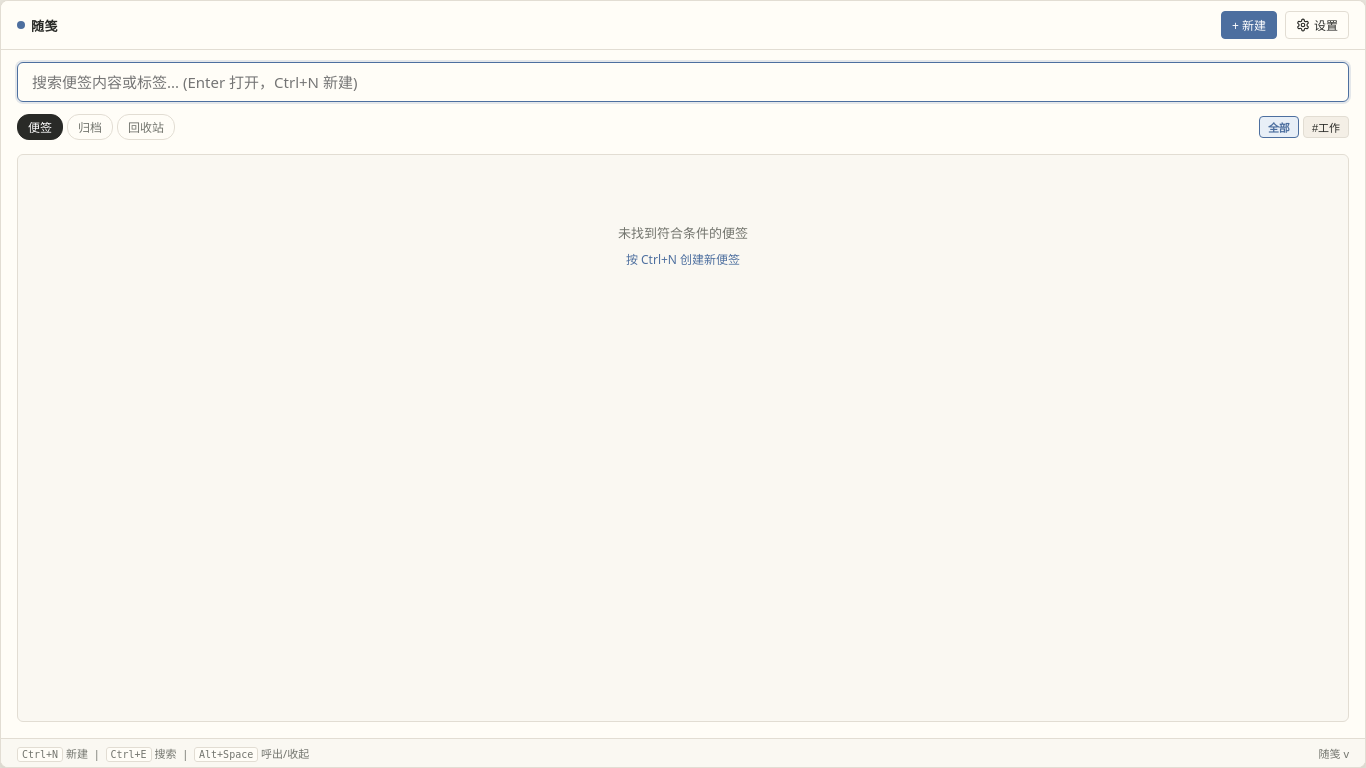
Scenario: App Workflow & State Management › opens and closes settings modal
The width and height of the screenshot is (1366, 768).
Click the button titled "设置".
click(1317, 25)  # box [1285,11,1349,39]
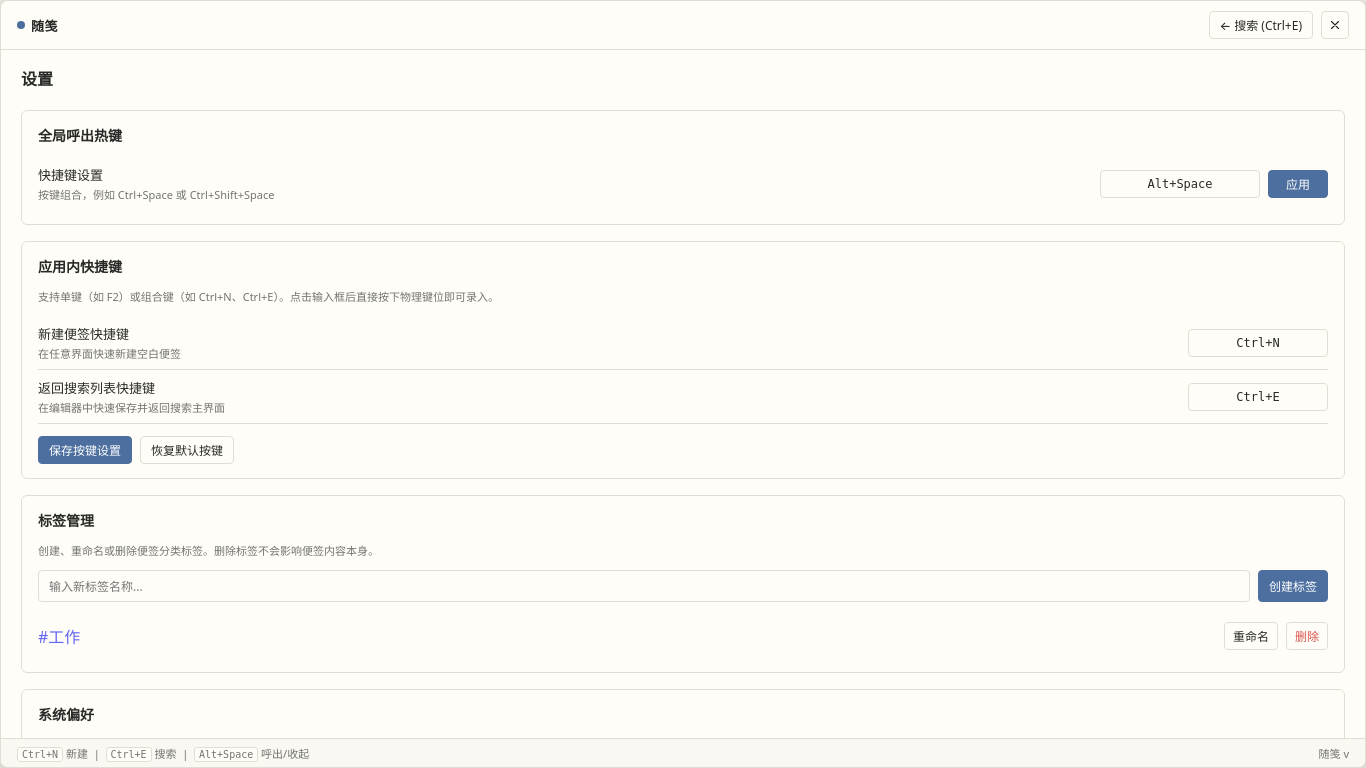
Expected: the text "快捷键设置" is shown, [38,166,103,184]
# Close button
Click the button named "关闭".
click(1335, 25)  # box [1321,11,1349,39]
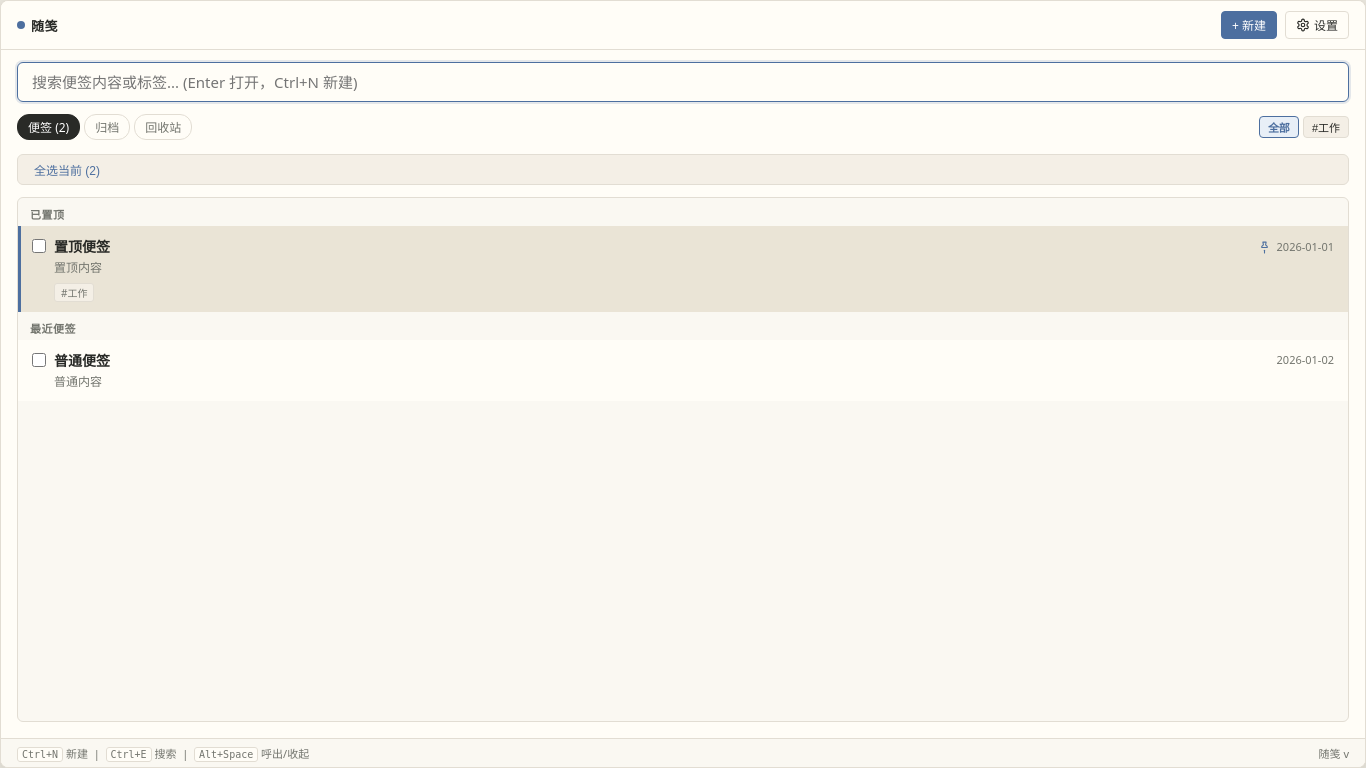
Expected: the text "快捷键设置" is gone
